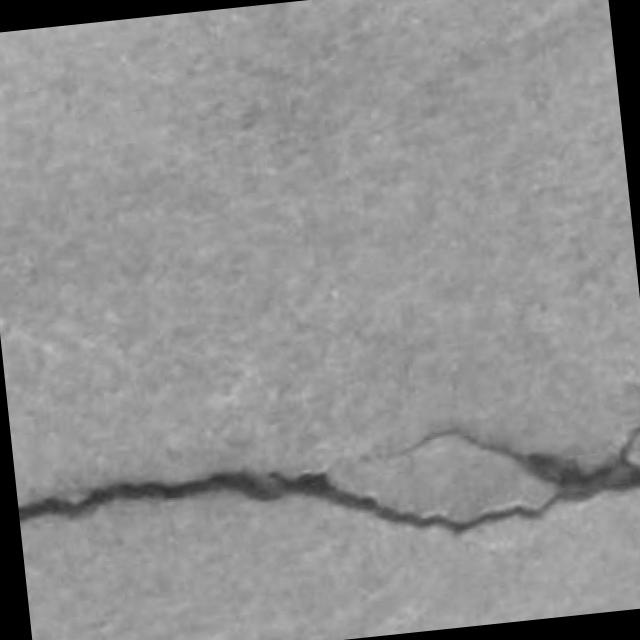crack: (18, 428, 639, 534)
